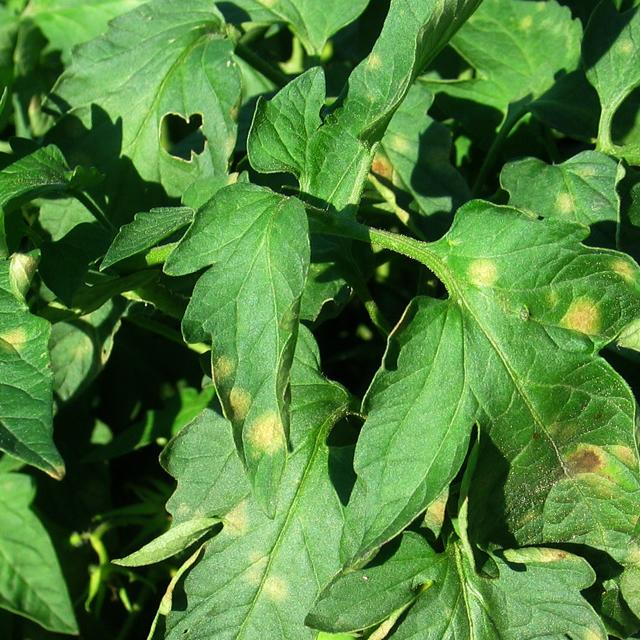Tomato mold leaf: (340, 184, 640, 607), (98, 371, 374, 640), (182, 180, 312, 521), (310, 544, 640, 640), (0, 170, 71, 464), (613, 494, 640, 640)
